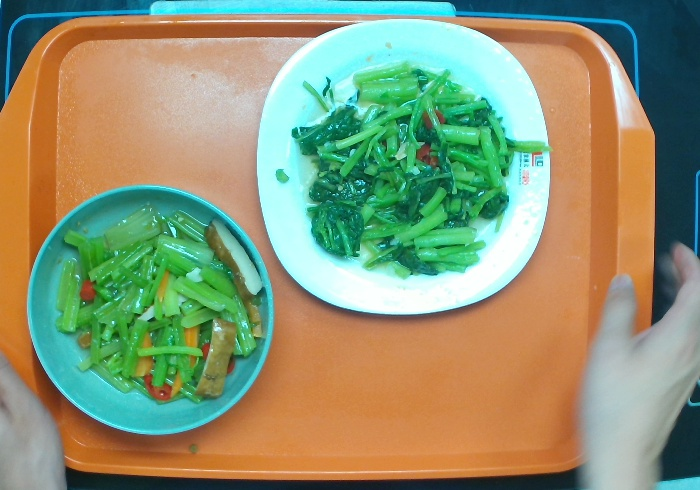ZNLD-Qing_Hua_Yuan_Wan: (24, 180, 277, 440)
ZNLD-Yuan_Jiao_Pan: (255, 15, 553, 318)
